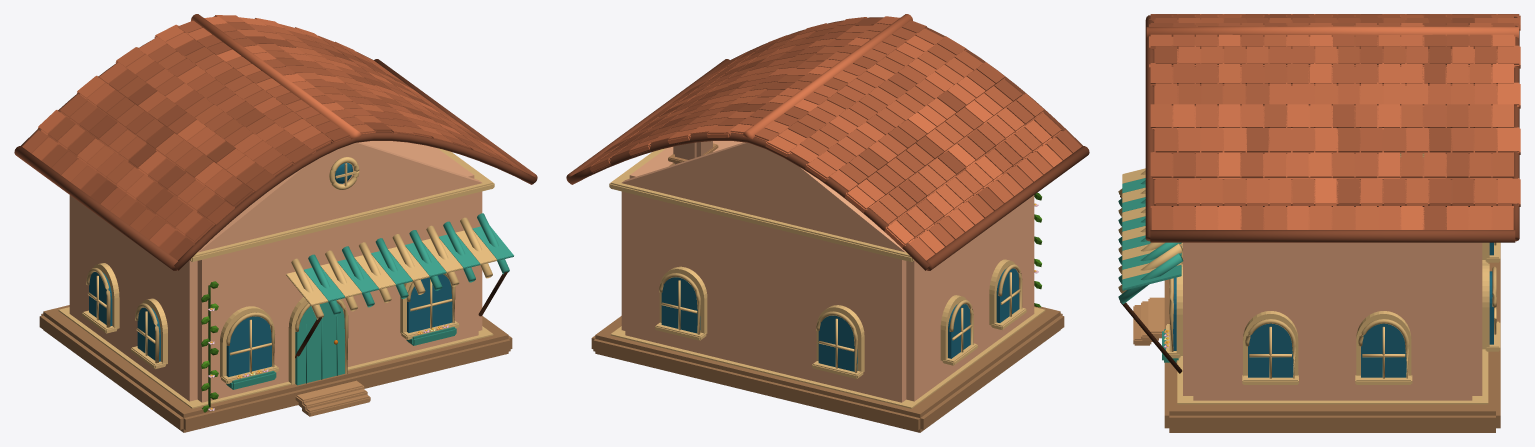
The model's file is market-salmon-Dp4rB-za.glb.
The picture shows the model from 3 angles, left to right: view 1: azimuth 30°, elevation 25°; view 2: azimuth 150°, elevation 25°; view 3: azimuth 270°, elevation 25°; orthographic projection. The views are drawn at different scales.
Parts seen in each view (by area): view 1: market-salmon; view 2: market-salmon; view 3: market-salmon.
Boxes of the visible parts, bbox=[...] form: market-salmon: bbox=[14, 14, 537, 432]; market-salmon: bbox=[566, 14, 1089, 432]; market-salmon: bbox=[1118, 14, 1520, 432].
Size of the model in its own units: 8.8 by 6.2 by 7.2.
